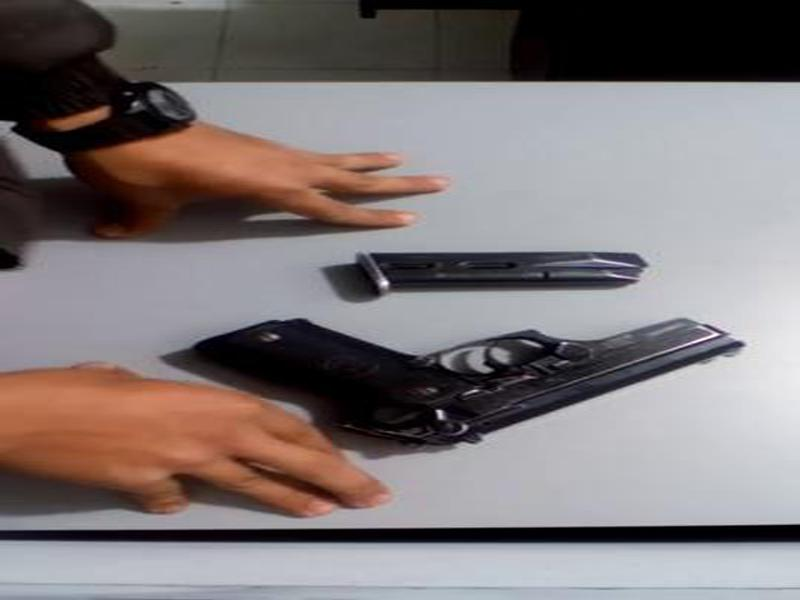Pistola: (179, 301, 767, 471)
